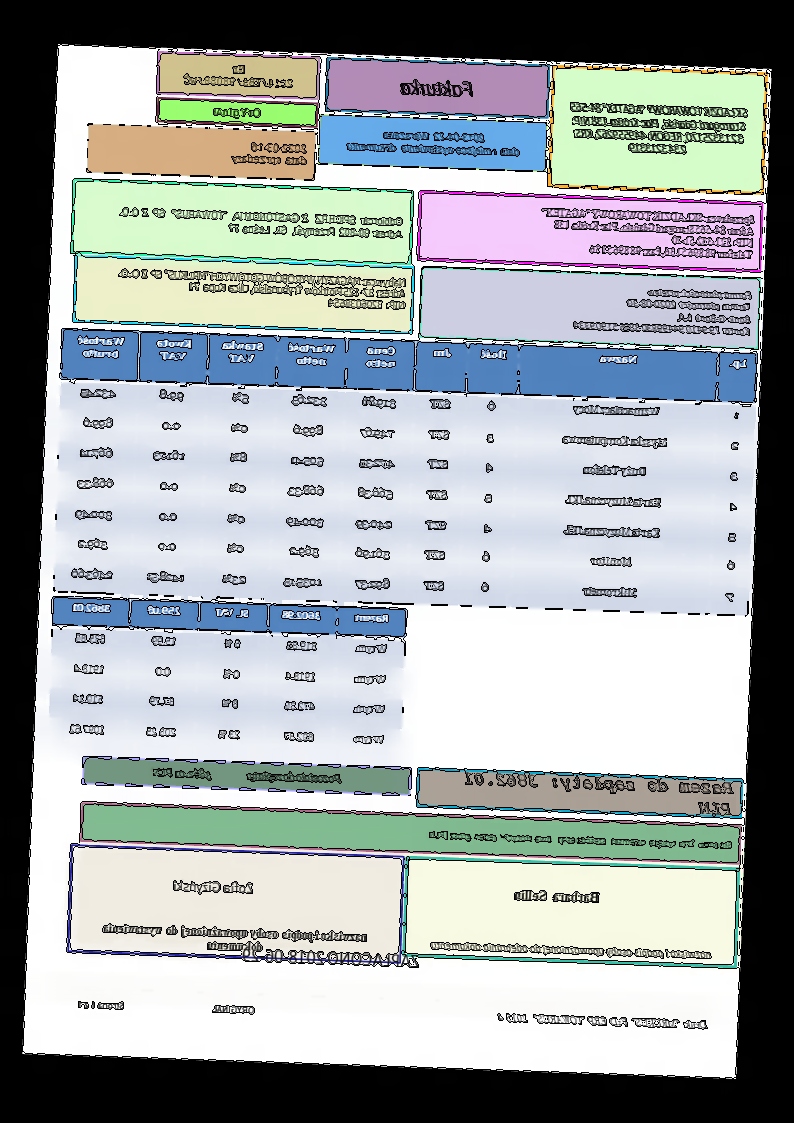Table: (53, 328, 759, 617), (47, 595, 408, 759)
TextBox: (118, 266, 409, 312), (463, 771, 735, 817), (540, 205, 758, 262), (568, 99, 752, 160), (115, 205, 405, 242), (571, 282, 754, 339), (101, 922, 370, 956), (424, 829, 734, 852), (430, 938, 714, 963), (345, 126, 523, 159), (495, 1010, 709, 1031), (241, 947, 422, 971), (148, 765, 345, 786), (181, 60, 296, 90), (76, 997, 256, 1016), (229, 139, 310, 169), (399, 78, 477, 99), (171, 878, 256, 897), (514, 888, 602, 905), (210, 104, 263, 121)
